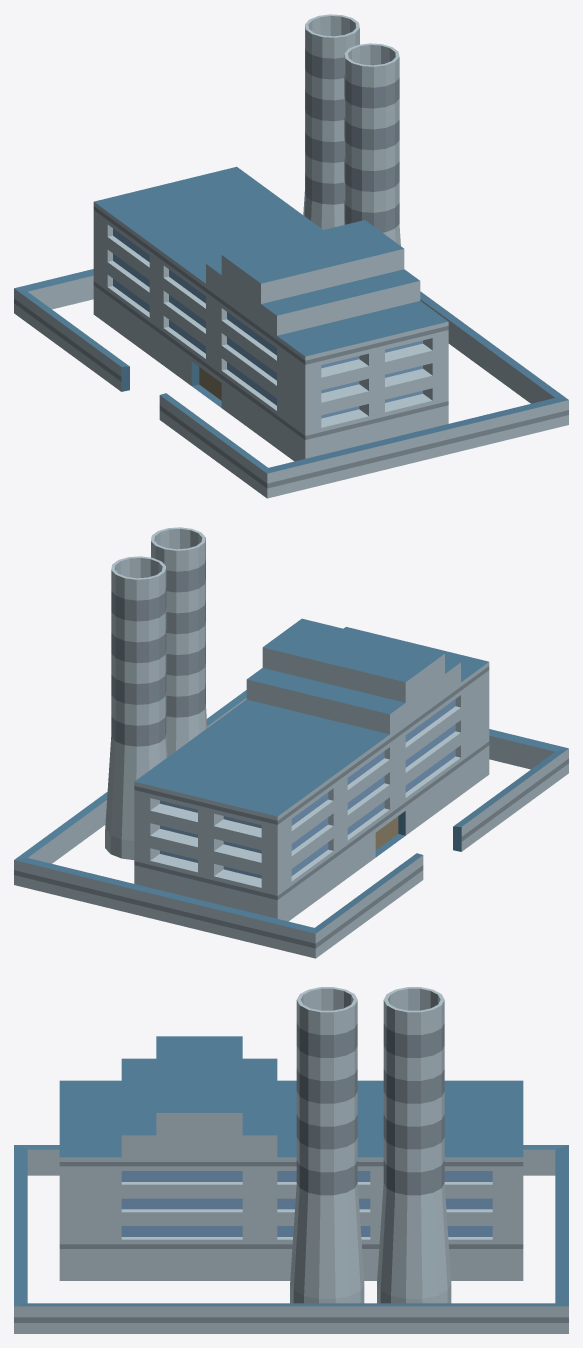
The model's file is powerplant.glb.
The picture shows the model from 3 angles, top to bottom: view 1: azimuth 30°, elevation 25°; view 2: azimuth 150°, elevation 25°; view 3: azimuth 270°, elevation 25°; orthographic projection. The views are drawn at different scales.
Parts seen in each view (by area): view 1: Cube, Cube.001, Cylinder.001, Cylinder; view 2: Cube, Cube.001, Cylinder, Cylinder.001; view 3: Cube, Cube.001, Cylinder.001, Cylinder.
Part boxes in pixels (bbox=[...]): Cube: bbox=[93, 166, 448, 461]; Cube.001: bbox=[14, 269, 568, 498]; Cylinder.001: bbox=[344, 43, 400, 245]; Cylinder: bbox=[303, 14, 359, 229]; Cube: bbox=[134, 618, 489, 921]; Cube.001: bbox=[14, 690, 568, 958]; Cylinder: bbox=[105, 556, 167, 859]; Cylinder.001: bbox=[151, 527, 207, 756]; Cube: bbox=[59, 1036, 523, 1280]; Cube.001: bbox=[14, 1145, 568, 1333]; Cylinder.001: bbox=[290, 987, 364, 1303]; Cylinder: bbox=[377, 987, 451, 1303].
Size of the model in its own units: 25.3 by 22.33 by 36.75.
